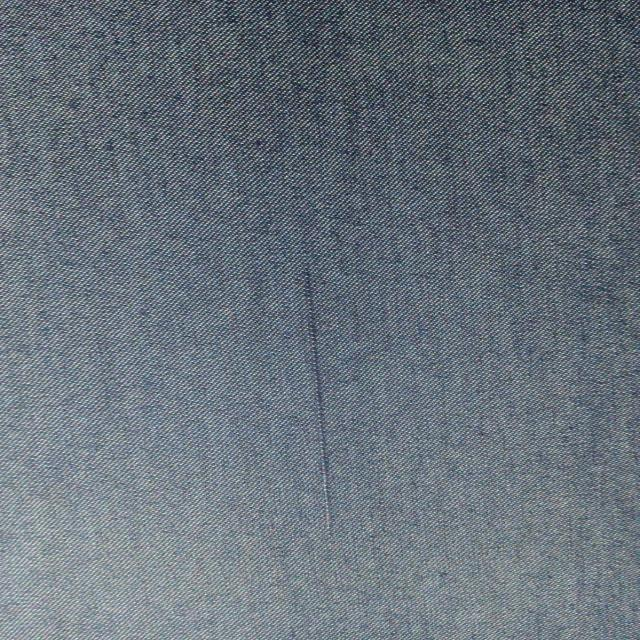Line: (302, 250, 343, 553)
